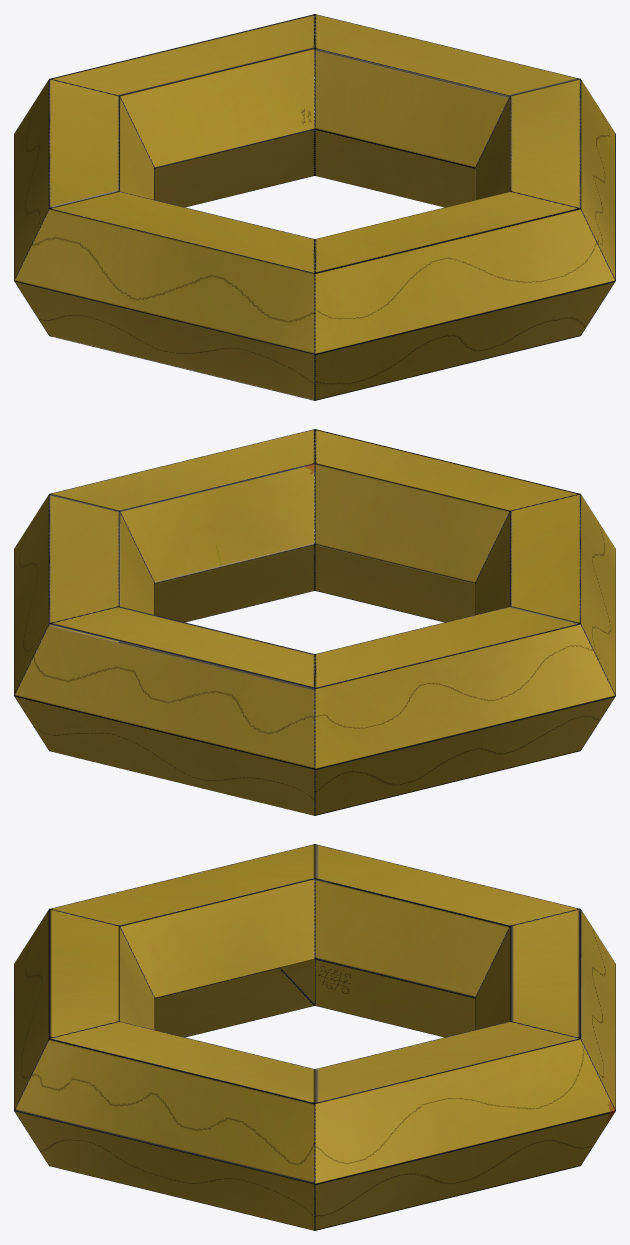
The model's file is chainlink.fbx.
3 renders of one model, top to bottom at view 1: azimuth 30°, elevation 25°; view 2: azimuth 150°, elevation 25°; view 3: azimuth 270°, elevation 25°, orthographic.
Visible parts, largest first — view 1: Torus; view 2: Torus; view 3: Torus.
Boxes of the visible parts, box(x1,y1,x2,y2) form: Torus: box(14, 14, 615, 400); Torus: box(14, 429, 615, 815); Torus: box(14, 844, 615, 1230).
Size of the model in its own units: 214 by 43.3 by 185.
Materials: 1 (1 with a texture image).
